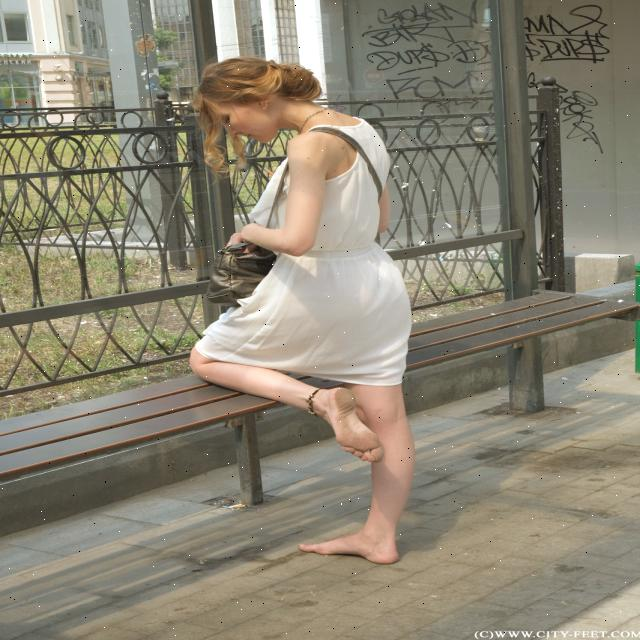No Safety Boots: (324, 387, 384, 463), (297, 534, 399, 564)
